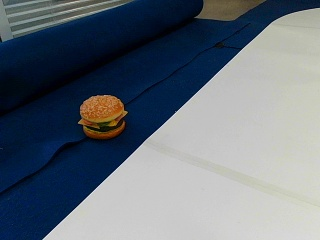burger: (77, 93, 127, 137)
